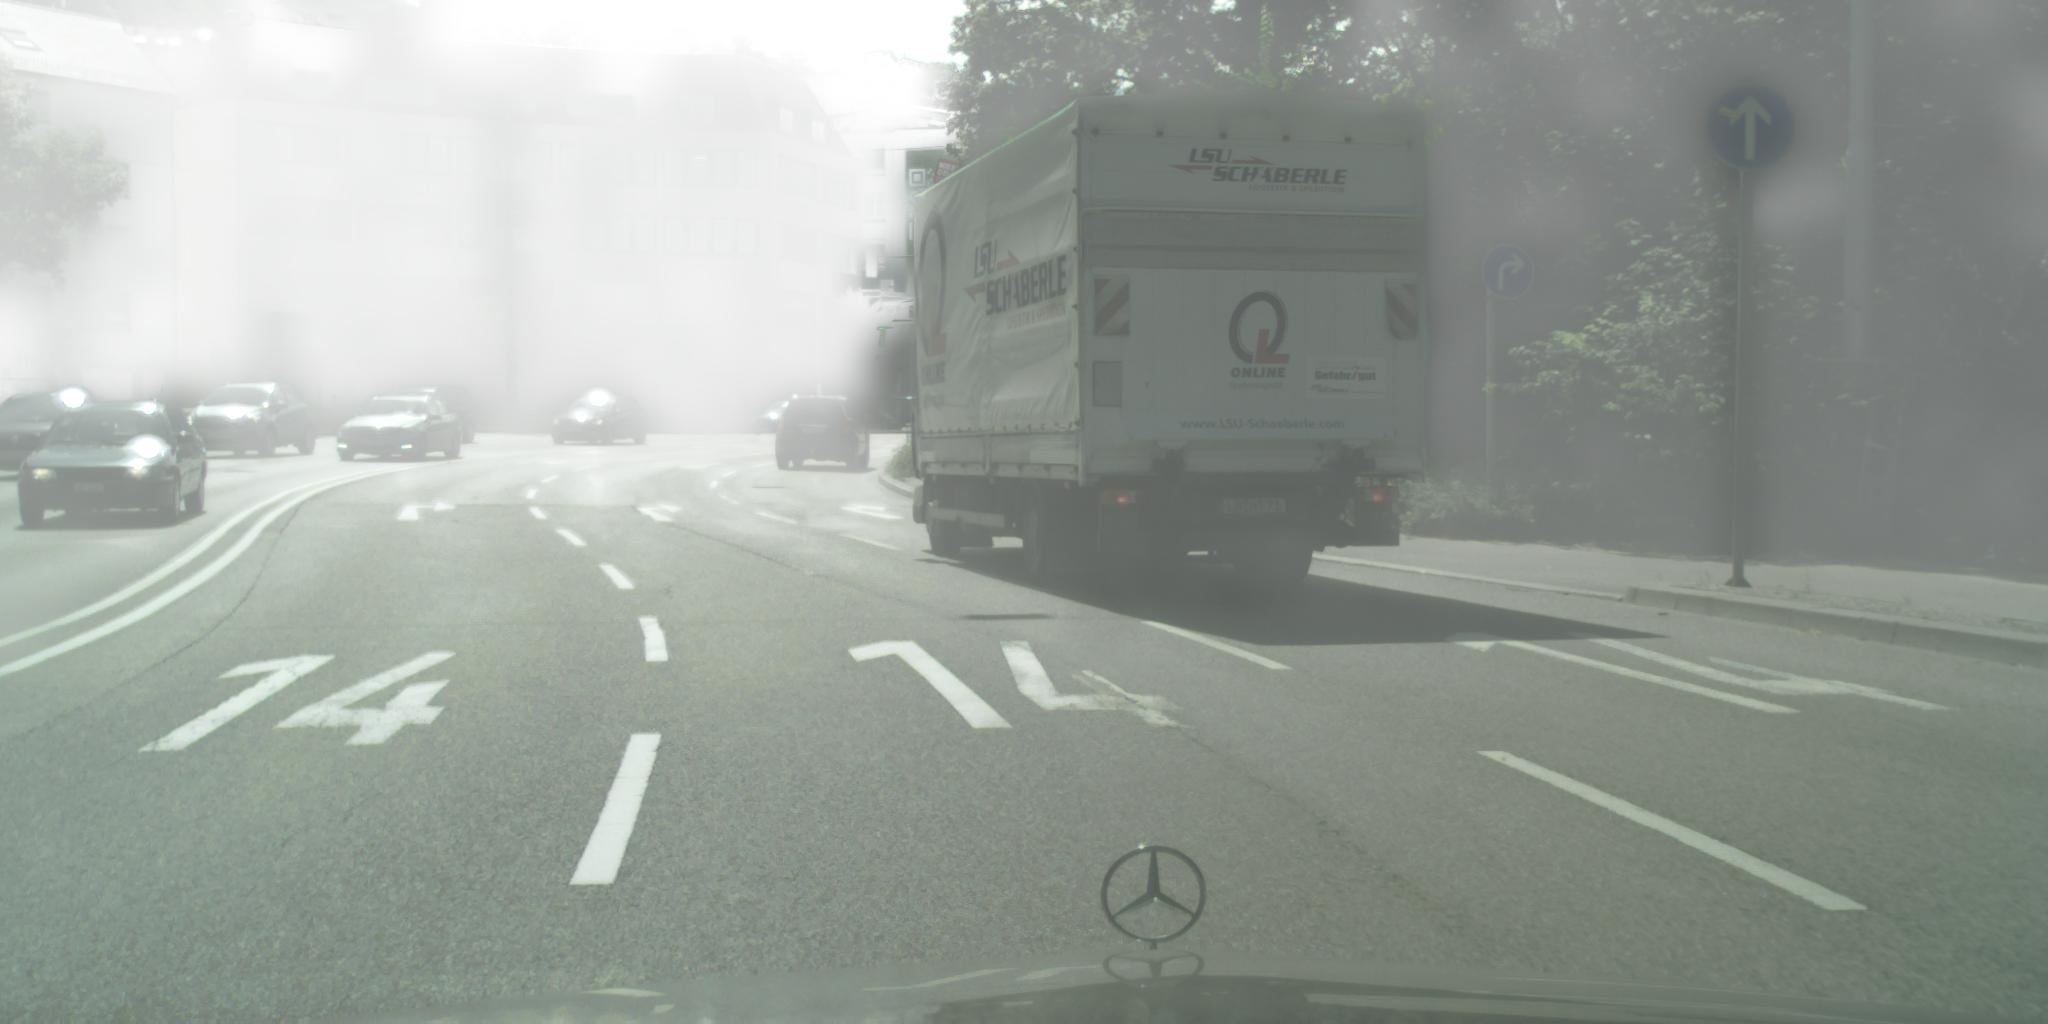car: (17, 394, 212, 530), (182, 383, 317, 458), (338, 393, 465, 462), (1, 391, 104, 472), (776, 394, 876, 472), (380, 387, 478, 445), (552, 393, 648, 447), (748, 398, 805, 438)
truck: (871, 88, 1433, 597)
